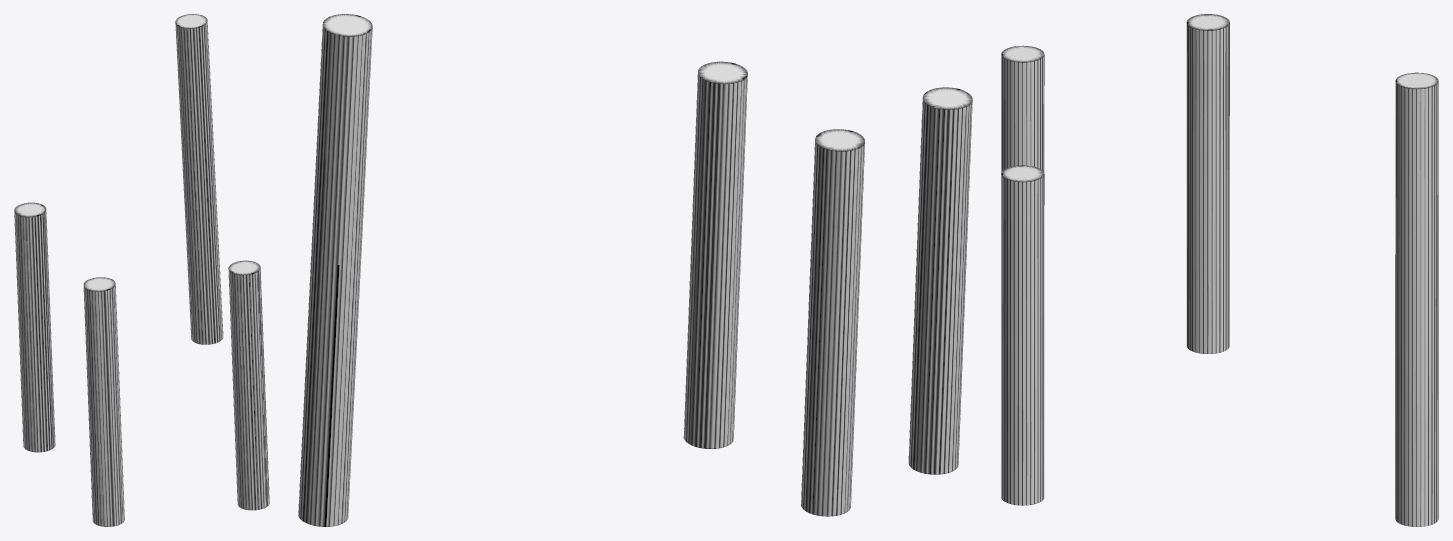
File: SignLegs.obj
3 renders of one model, left to right at view 1: azimuth 30°, elevation 25°; view 2: azimuth 150°, elevation 25°; view 3: azimuth 270°, elevation 25°, orthographic. The views are drawn at different scales.
Parts seen in each view (by area): view 1: Legs; view 2: Legs; view 3: Legs.
Boxes of the visible parts, left/top/right/bottom form: Legs: left=14, top=14, right=269, bottom=526; Legs: left=298, top=14, right=972, bottom=526; Legs: left=1001, top=14, right=1438, bottom=526.
Size of the model in its own units: 0.0977 by 0.1169 by 0.0978.
